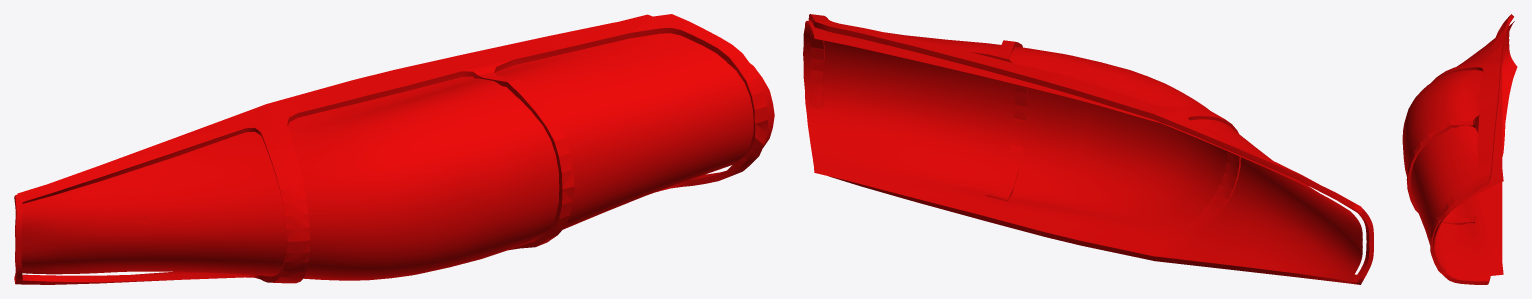
File: rafale_highlight_19.fbx
3 views of the same model, side by side, from view 1: azimuth 30°, elevation 25°; view 2: azimuth 150°, elevation 25°; view 3: azimuth 270°, elevation 25° (orthographic). The views are drawn at different scales.
Visible parts, largest first — view 1: rafale_highlight_19; view 2: rafale_highlight_19; view 3: rafale_highlight_19.
Part boxes in pixels (left/top/right/bottom): rafale_highlight_19: left=14, top=14, right=774, bottom=284; rafale_highlight_19: left=803, top=14, right=1373, bottom=284; rafale_highlight_19: left=1402, top=14, right=1517, bottom=284.
Bounding box in the file's own units: 147 × 35.48 × 34.04.
